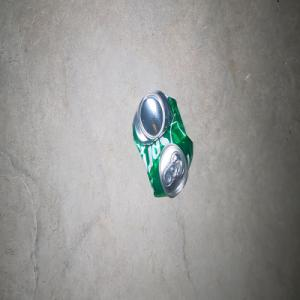SodaCan: (131, 89, 193, 197)
